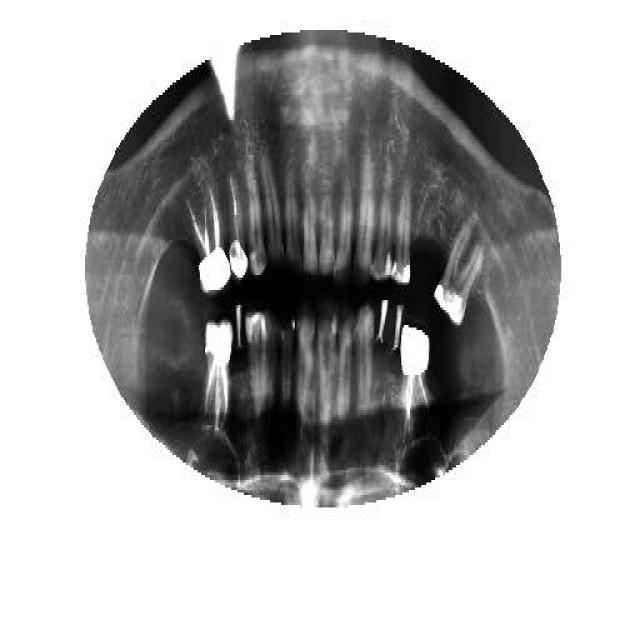Fillings: (435, 220, 486, 328), (392, 180, 412, 285)
Implant: (188, 175, 228, 297), (395, 323, 433, 445), (204, 318, 232, 428), (228, 165, 252, 283)
